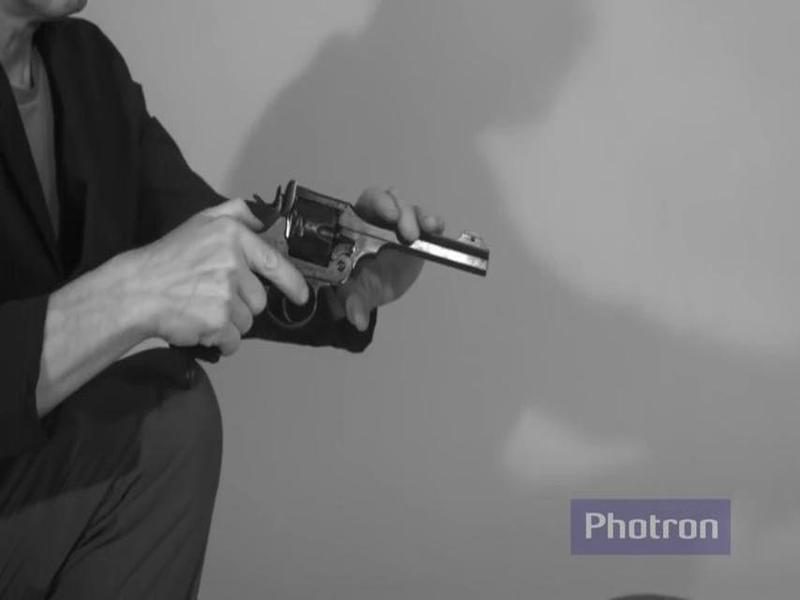Revolver: (248, 160, 503, 374)
